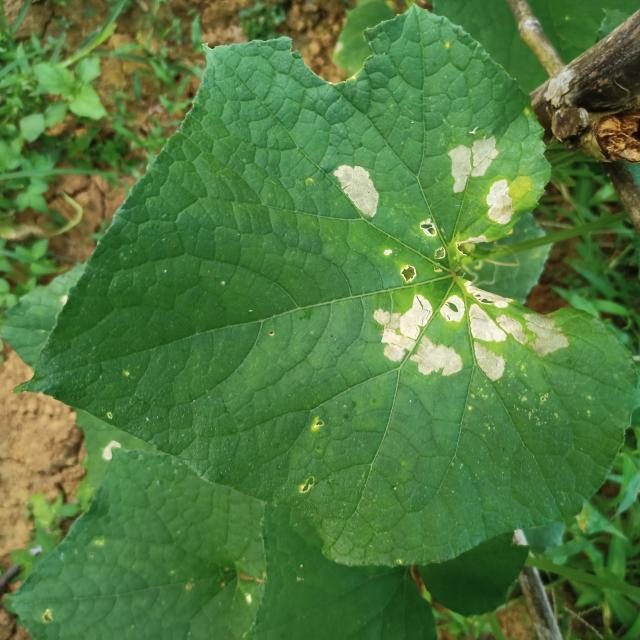disease_cucumber: (372, 279, 571, 383), (448, 134, 499, 194), (332, 162, 383, 220), (485, 175, 515, 227), (418, 216, 450, 259), (399, 263, 418, 284)
